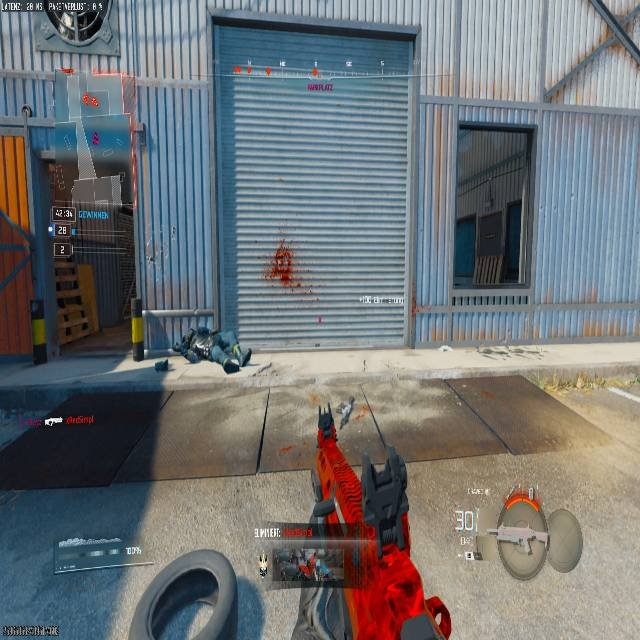head: (223, 359, 240, 374)
